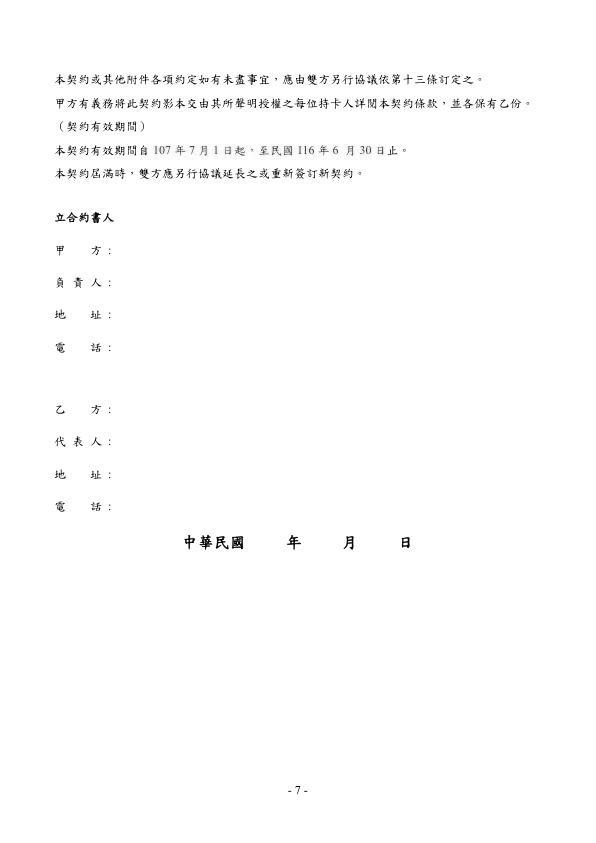text: (51, 68, 535, 113), (50, 144, 414, 185), (55, 116, 150, 135), (179, 530, 250, 554), (53, 270, 120, 295), (48, 208, 124, 229), (48, 467, 122, 488), (48, 496, 116, 517), (51, 399, 118, 420), (47, 433, 120, 452), (49, 341, 121, 357), (47, 308, 118, 324), (51, 243, 115, 259), (279, 529, 304, 555), (338, 530, 357, 555), (396, 530, 414, 554)
